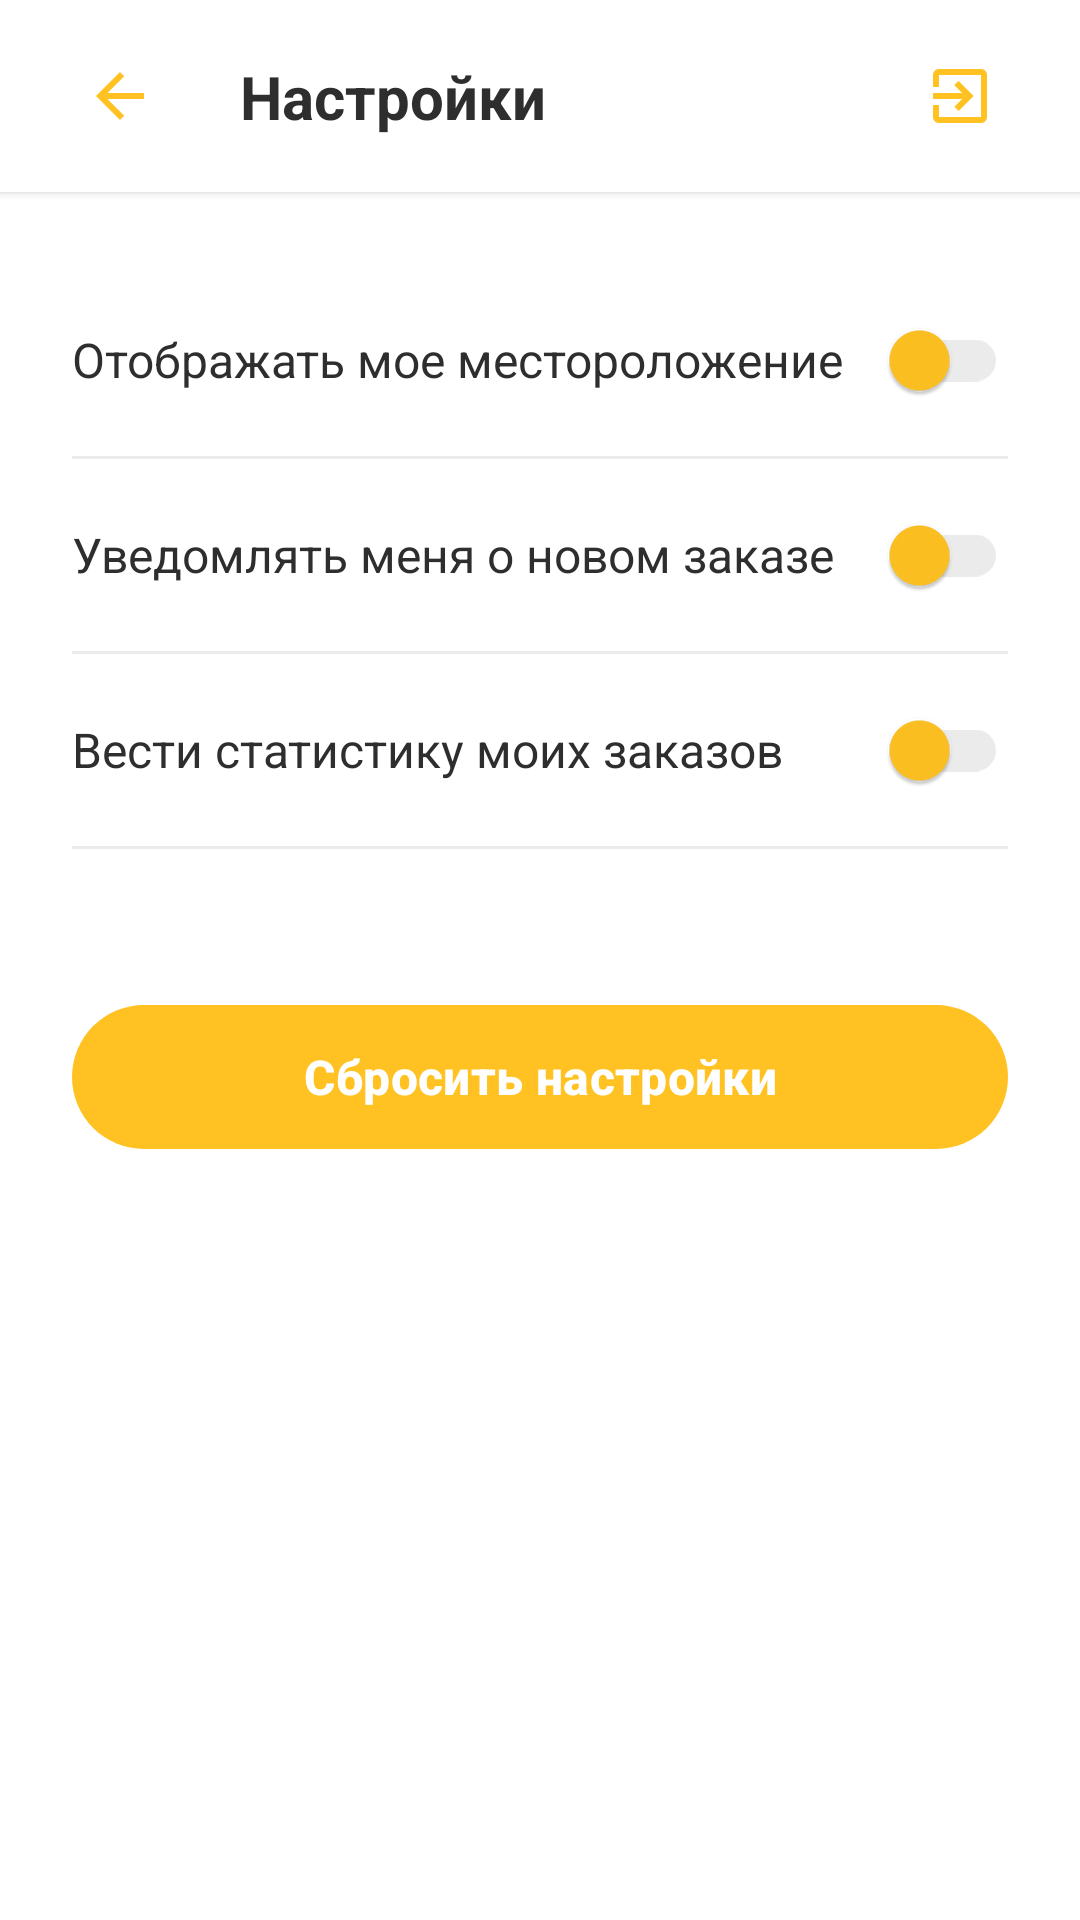

Named icons in this screenshot (1080 x 1920) and their bounding boxes, (x1, y1, x2, y2):
Back: (96, 72, 144, 120)
Exit Settings: (933, 69, 987, 123)
